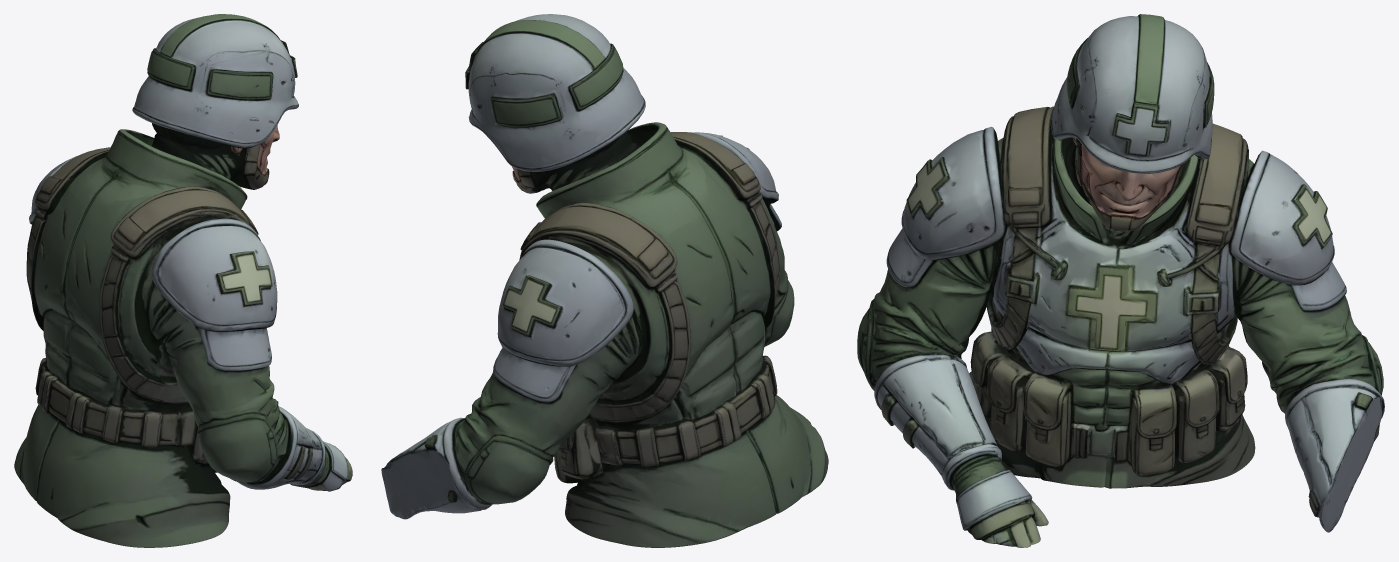
The model's file is chaplain3dskin2.glb.
3 renders of one model, left to right at view 1: azimuth 30°, elevation 25°; view 2: azimuth 150°, elevation 25°; view 3: azimuth 270°, elevation 25°, orthographic. The views are drawn at different scales.
Visible parts, largest first — view 1: tripo_node_fb241e5a-3591-46ef-ace2-b90b2a9130c5; view 2: tripo_node_fb241e5a-3591-46ef-ace2-b90b2a9130c5; view 3: tripo_node_fb241e5a-3591-46ef-ace2-b90b2a9130c5.
Boxes of the visible parts, box(x1,y1,x2,y2) form: tripo_node_fb241e5a-3591-46ef-ace2-b90b2a9130c5: box(14, 14, 352, 547); tripo_node_fb241e5a-3591-46ef-ace2-b90b2a9130c5: box(381, 14, 828, 547); tripo_node_fb241e5a-3591-46ef-ace2-b90b2a9130c5: box(857, 14, 1384, 547).
Bounding box in the file's own units: 0.6826 × 1 × 0.992.
1 material, 1 textured.
